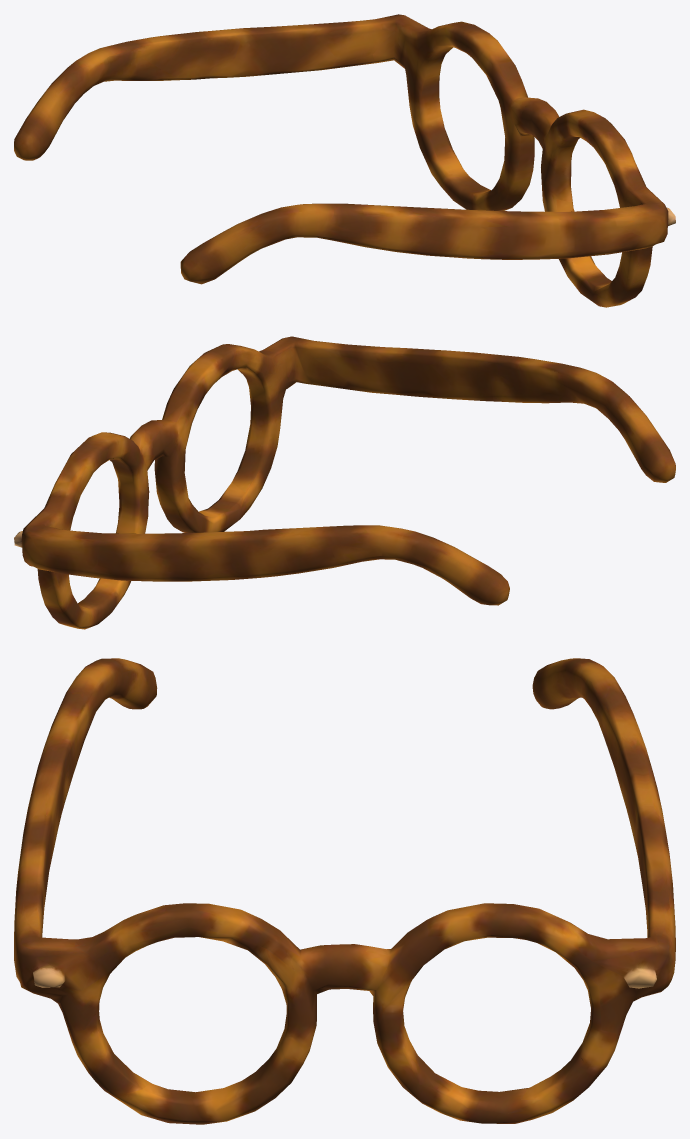
The model's file is x-glasses.glb.
3 renders of one model, top to bottom at view 1: azimuth 30°, elevation 25°; view 2: azimuth 150°, elevation 25°; view 3: azimuth 270°, elevation 25°, orthographic. The views are drawn at different scales.
Visible parts, largest first — view 1: tripo_node_055ee492-c755-4a4b-9772-833ea4a5d1b8; view 2: tripo_node_055ee492-c755-4a4b-9772-833ea4a5d1b8; view 3: tripo_node_055ee492-c755-4a4b-9772-833ea4a5d1b8.
Part boxes in pixels (box(x1,y1,x2,y2)): tripo_node_055ee492-c755-4a4b-9772-833ea4a5d1b8: box(14, 14, 675, 307); tripo_node_055ee492-c755-4a4b-9772-833ea4a5d1b8: box(14, 336, 675, 629); tripo_node_055ee492-c755-4a4b-9772-833ea4a5d1b8: box(14, 658, 675, 1124).
Size of the model in its own units: 0.9729 by 0.4143 by 1.
Materials: 1 (1 with a texture image).
